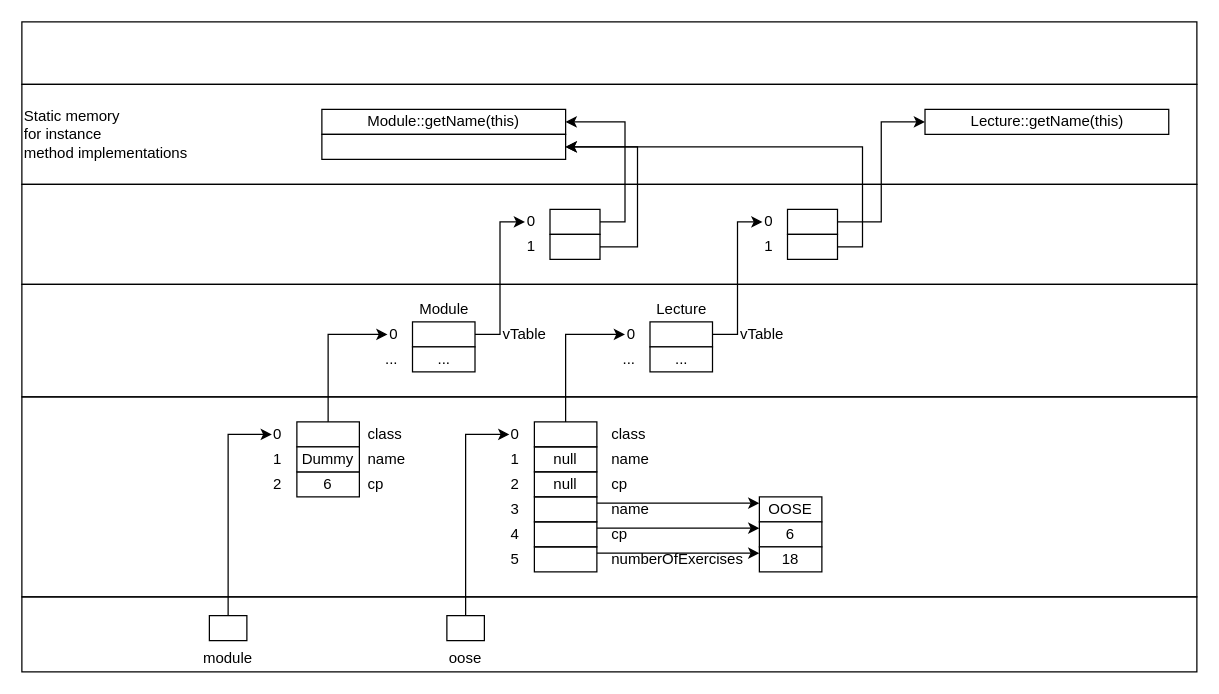
Some shapes in this 1219 by 694 pixel diagram are drawn without their labels. Here are the shapes that lost their labels. From the top down, the box of each, then its label:
(21, 21, 1197, 84): Static memory for class members
(321, 133, 566, 159): Module::register(this, Student)
(21, 183, 1197, 284): Static memory for vTables
(21, 283, 1197, 397): Static memory for classes
(21, 396, 1197, 597): Heap
(21, 596, 1197, 672): Stack
